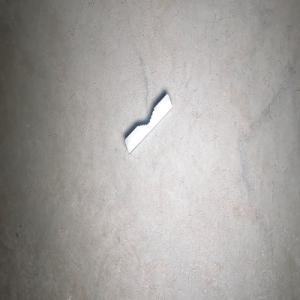ClampPart: (124, 92, 173, 154)
